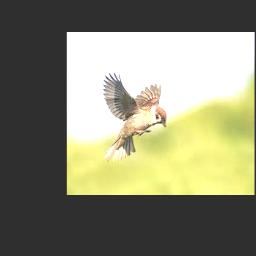Sparrow: (103, 72, 167, 162)
